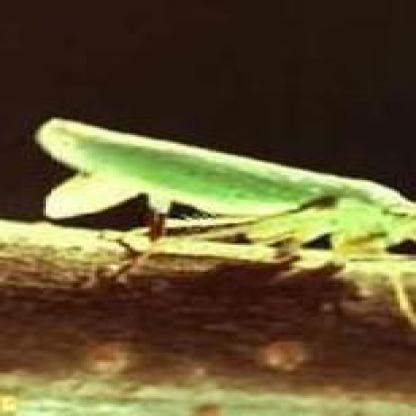Green-Leafhopper: (30, 118, 416, 336)
